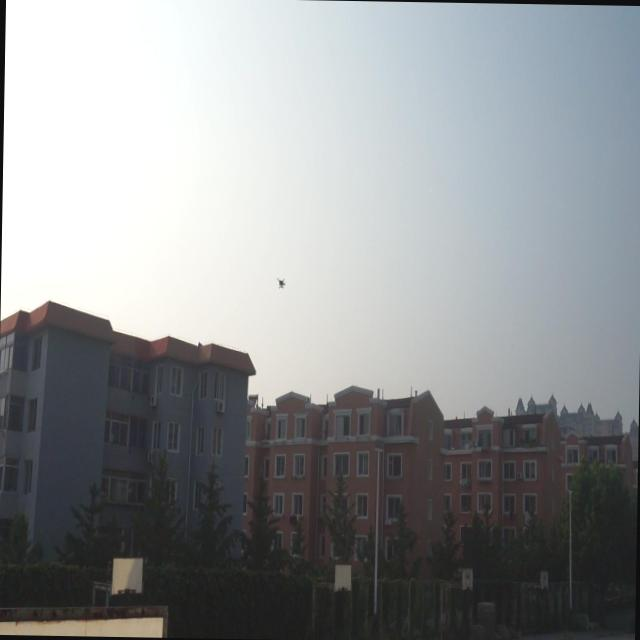drone: (272, 270, 292, 296)
